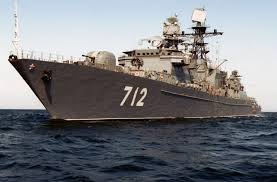tau_muctieu: (11, 15, 265, 122)
